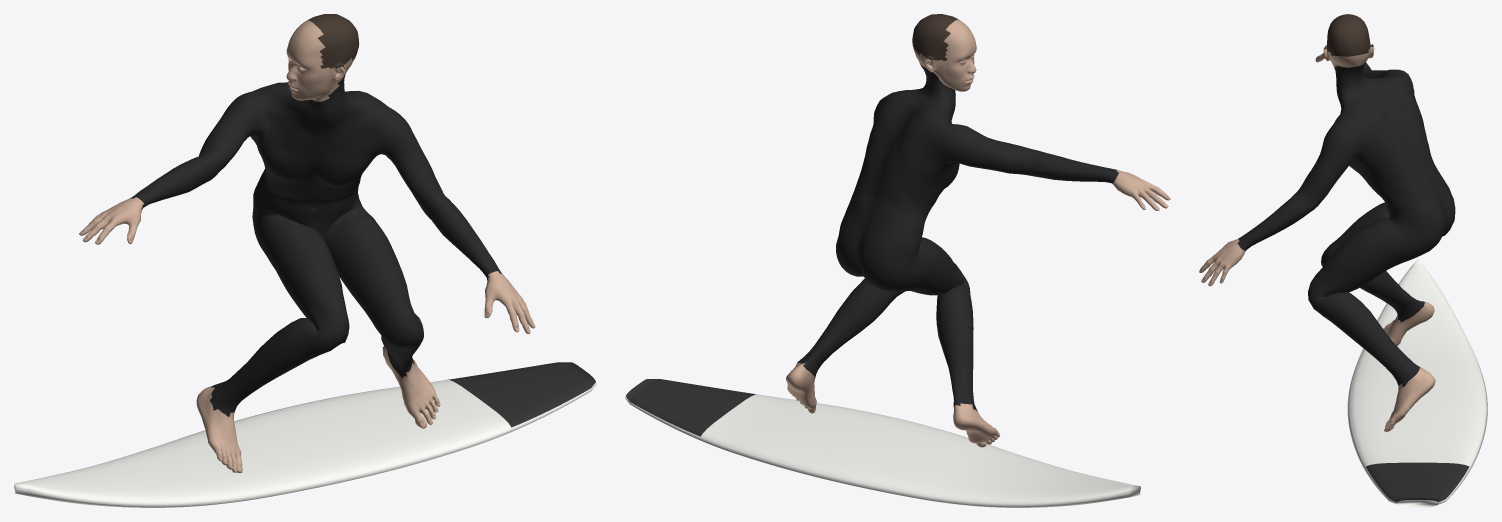
Rendered from surfer-v2.glb.
3 renders of one model, left to right at view 1: azimuth 30°, elevation 25°; view 2: azimuth 150°, elevation 25°; view 3: azimuth 270°, elevation 25°, orthographic. The views are drawn at different scales.
Visible parts, largest first — view 1: Surfer, Board; view 2: Surfer, Board; view 3: Surfer, Board.
Part boxes in pixels (x1,y1,x2,y2): Surfer: (79,14,535,472); Board: (14,362,596,507); Surfer: (786,14,1170,447); Board: (625,379,1140,507); Surfer: (1199,14,1455,431); Board: (1347,259,1487,507).
Bounding box in the file's own units: 1.83 × 1.47 × 1.01.
